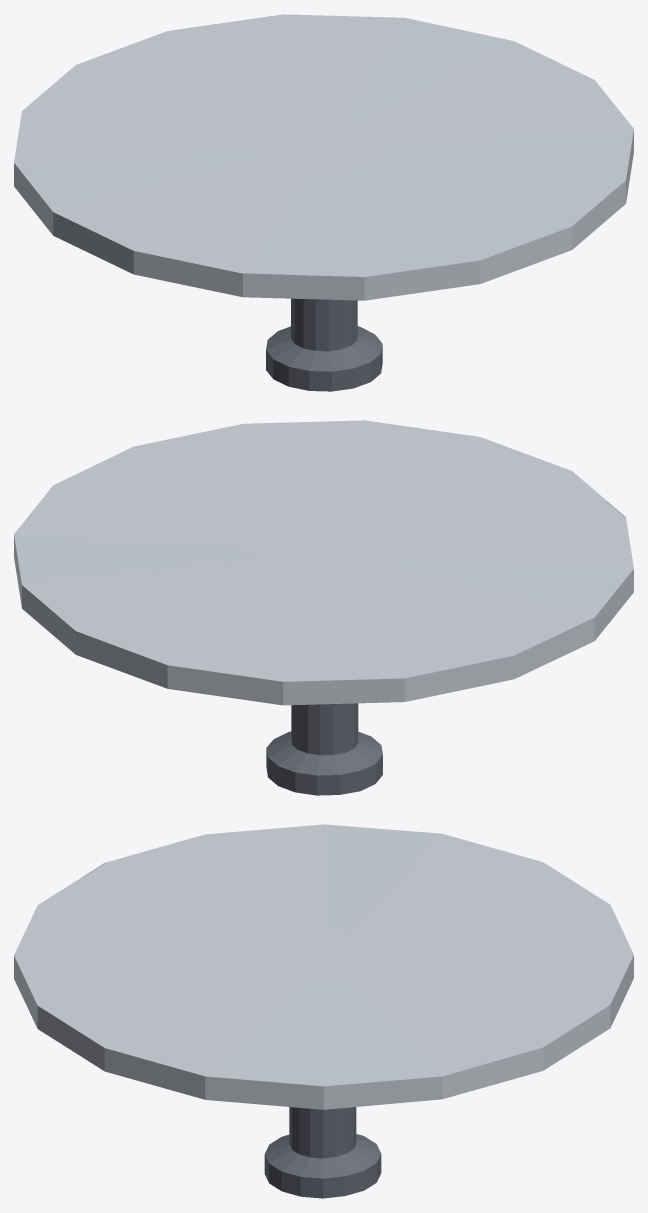
File: cozyjam_prop_table_round_a_v002.fbx
3 views of the same model, one above another, from view 1: azimuth 30°, elevation 25°; view 2: azimuth 150°, elevation 25°; view 3: azimuth 270°, elevation 25° (orthographic).
Visible parts, largest first — view 1: Cylinder; view 2: Cylinder; view 3: Cylinder.
Boxes of the visible parts, left/top/right/bottom form: Cylinder: left=14, top=14, right=633, bottom=391; Cylinder: left=14, top=420, right=633, bottom=795; Cylinder: left=14, top=824, right=633, bottom=1198.
Size of the model in its own units: 164 by 64.1 by 164.
